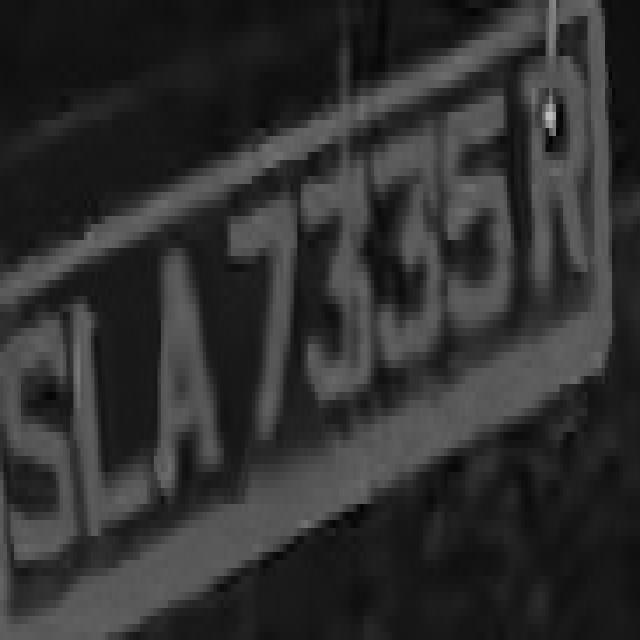3: (294, 136, 378, 448), (367, 112, 444, 408)
5: (434, 64, 521, 336)
7: (231, 184, 297, 480)
A: (144, 216, 228, 536)
L: (66, 248, 150, 560)
R: (507, 32, 591, 312)
S: (7, 256, 80, 624)
